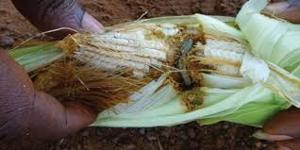fallarmy_worm: (172, 35, 200, 93)
